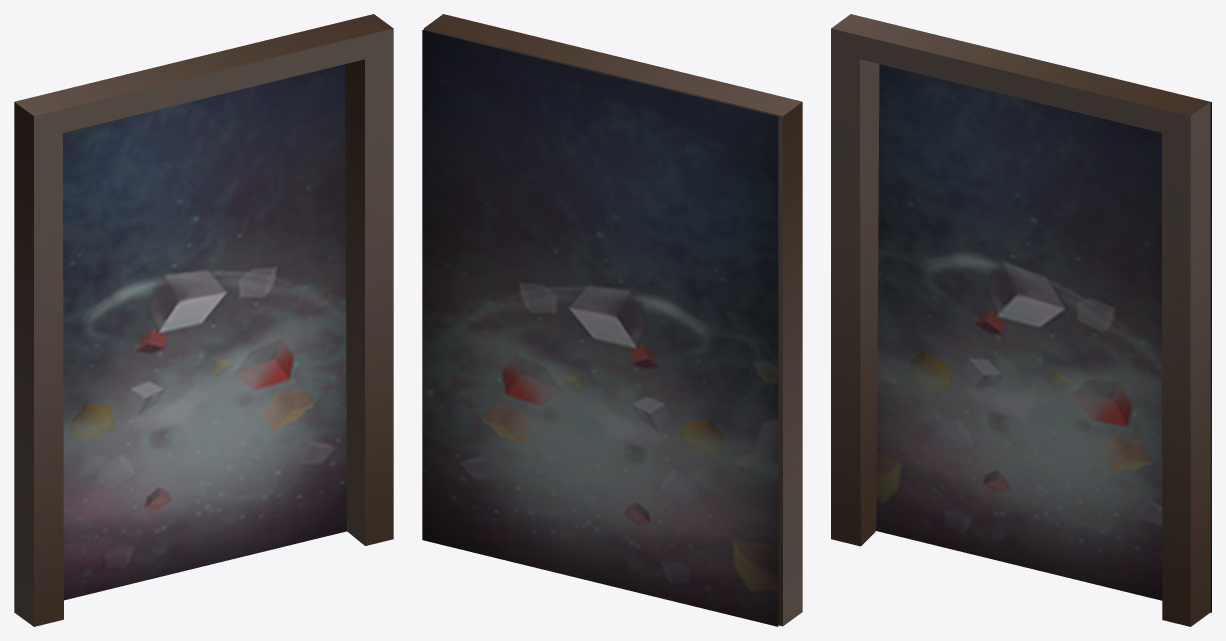
Rendered from door_no.FBX.
3 renders of one model, left to right at view 1: azimuth 30°, elevation 25°; view 2: azimuth 150°, elevation 25°; view 3: azimuth 330°, elevation 25°, orthographic.
Visible parts, largest first — view 1: Plane014; view 2: Plane014; view 3: Plane014.
Boxes of the visible parts, left/top/right/bottom form: Plane014: left=14, top=14, right=393, bottom=626; Plane014: left=422, top=14, right=802, bottom=626; Plane014: left=831, top=14, right=1211, bottom=626.
Size of the model in its own units: 31.75 by 43.07 by 3.15.
Materials: 1 (1 with a texture image).
